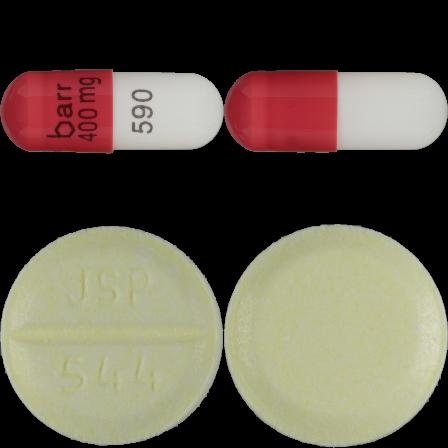53808-0353: (0, 0, 224, 224)
